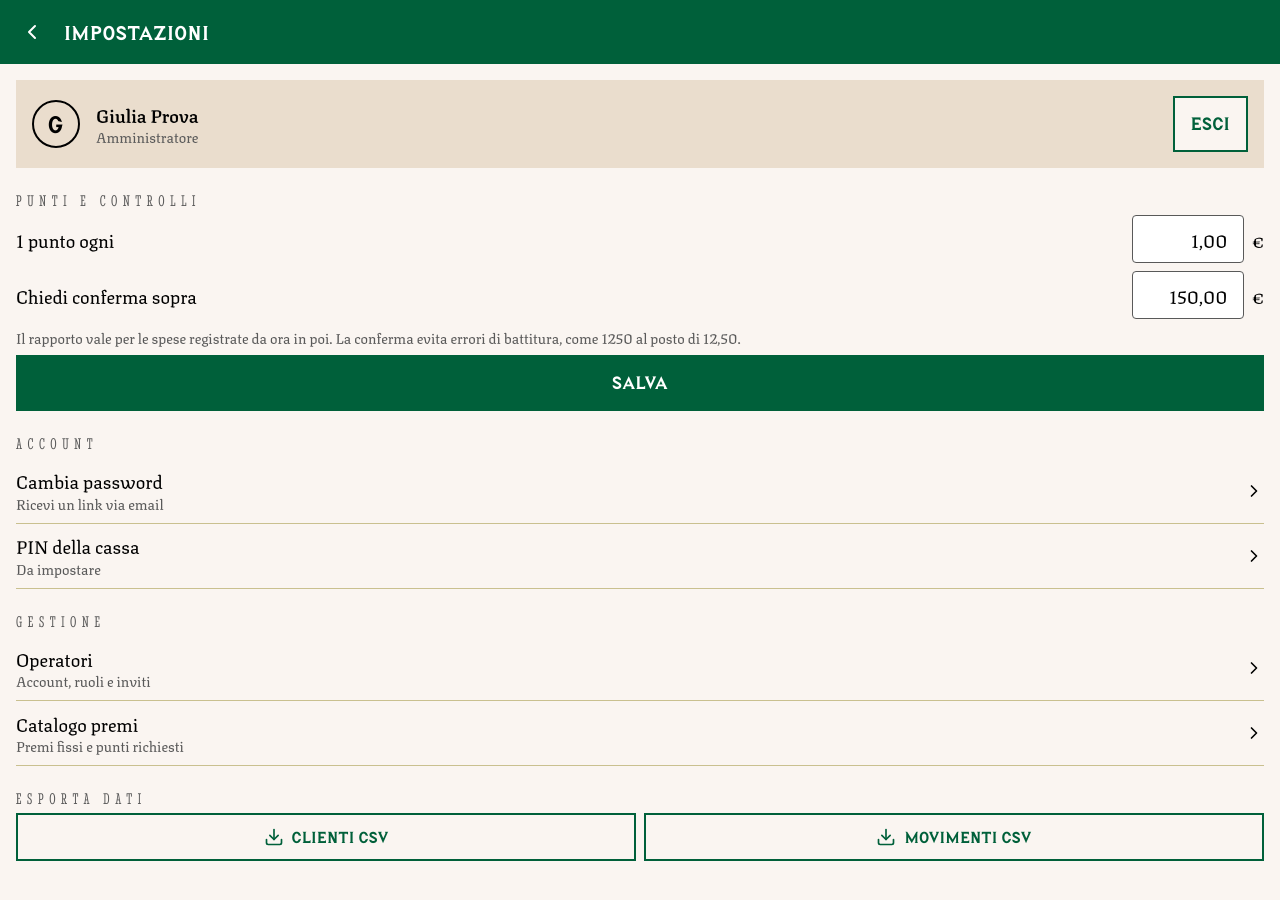
Test: "Operatori" row of GESTIONE › on the phone: "Account, ruoli e inviti", and a tap opens /impostazioni/operatori
Click the link "Operatori Account, ruoli e inviti" at (54, 658), box [16,636,1264,700]
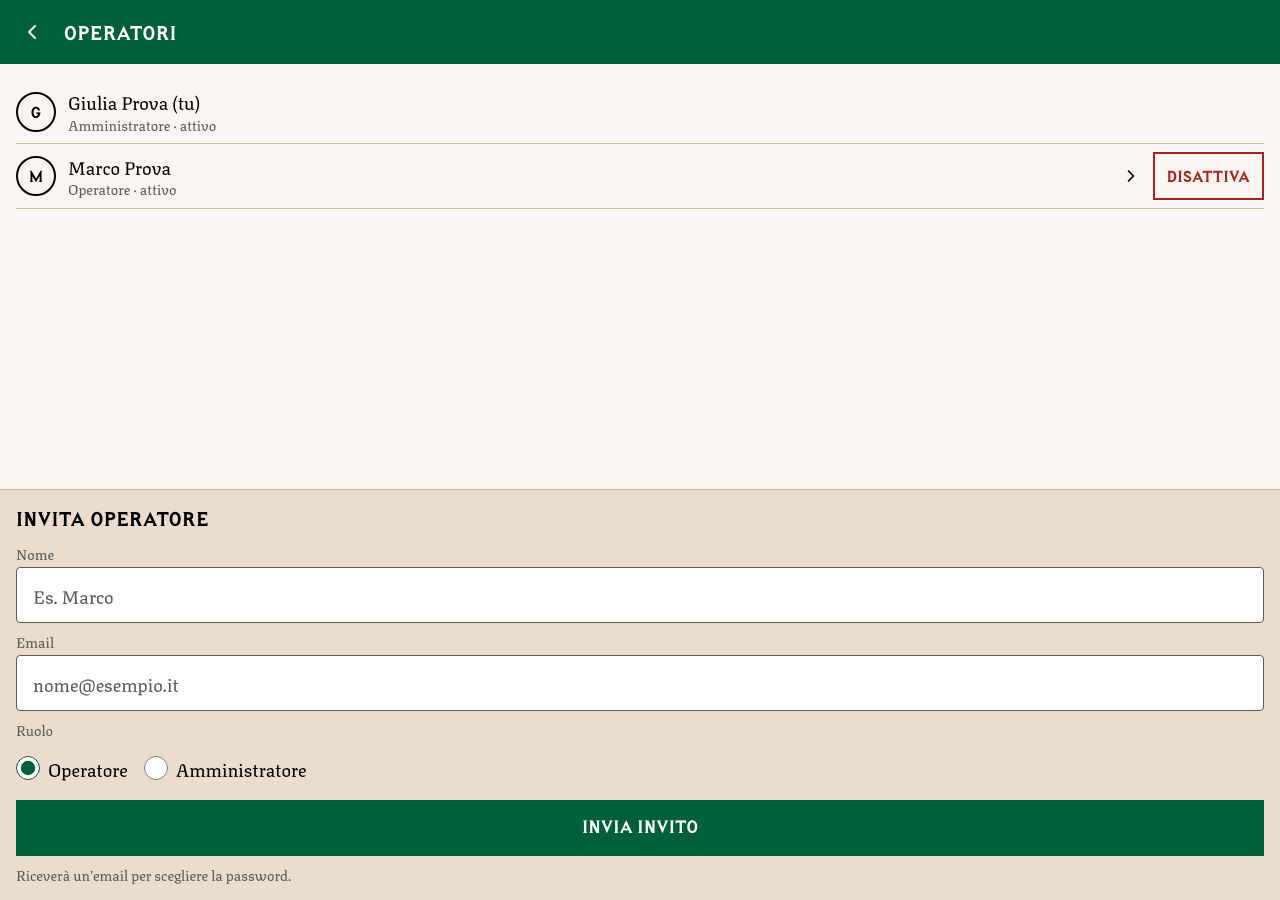
Now the heading "Operatori" is shown, box [64,20,177,44]
